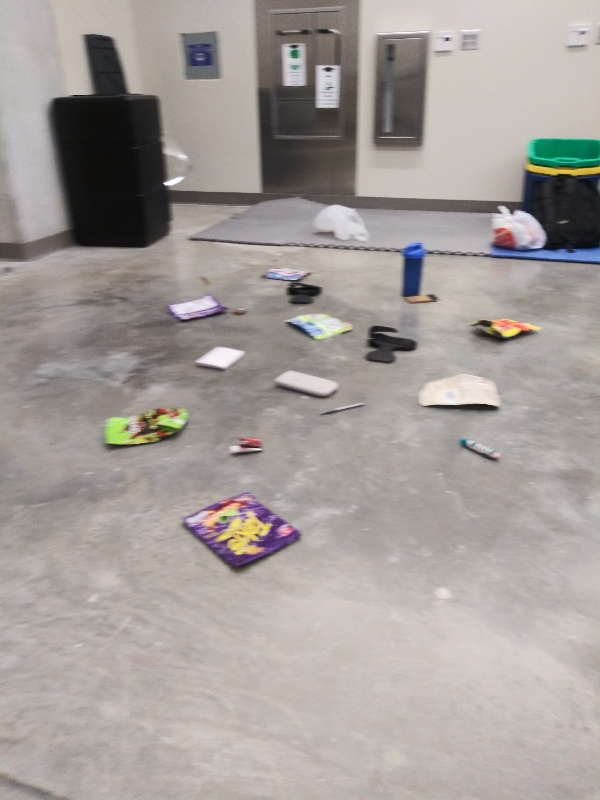bag: (175, 489, 307, 578), (95, 402, 195, 454), (413, 369, 502, 414), (284, 307, 356, 343), (468, 313, 545, 344), (163, 293, 230, 327), (257, 263, 315, 283)
